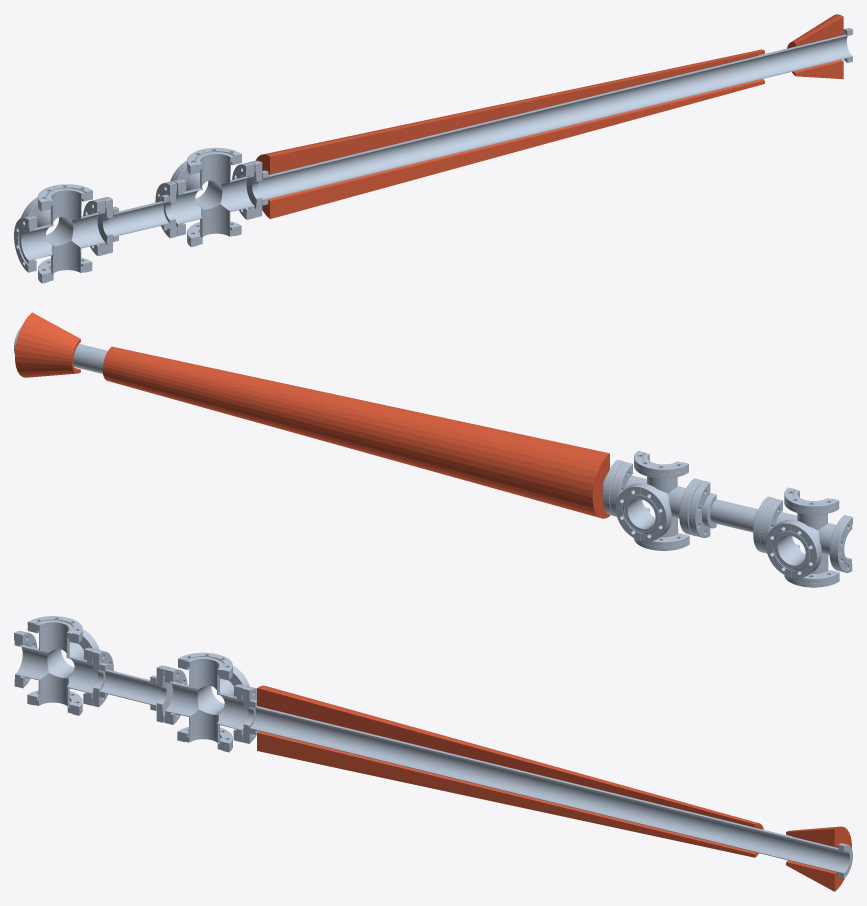
File: schreck.gltf
3 views of the same model, one above another, from view 1: azimuth 30°, elevation 25°; view 2: azimuth 150°, elevation 25°; view 3: azimuth 330°, elevation 25° (orthographic).
Visible parts, largest first — view 1: SrPAL, Coil; view 2: Coil, SrPAL; view 3: SrPAL, Coil.
Boxes of the visible parts, x1=… form: SrPAL: x1=14, y1=28, x2=852, y2=283; Coil: x1=255, y1=14, x2=843, y2=218; Coil: x1=15, y1=312, x2=609, y2=518; SrPAL: x1=14, y1=326, x2=852, y2=587; SrPAL: x1=14, y1=616, x2=852, y2=878; Coil: x1=257, y1=685, x2=851, y2=891.
Bounding box in the file's own units: 183 × 17.17 × 8.69.
